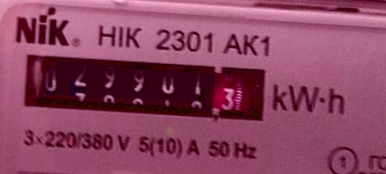0: (40, 65, 60, 93), (159, 67, 177, 97)
1: (190, 68, 205, 96)
2: (70, 61, 90, 89)
3: (218, 85, 237, 112)
9: (100, 63, 118, 91), (131, 66, 146, 94)
screen: (13, 43, 278, 132)
